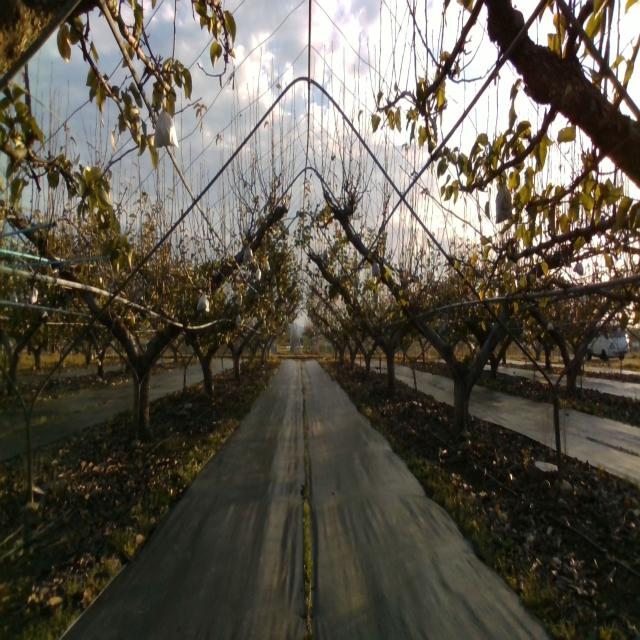pearbags: (153, 110, 176, 152), (495, 175, 512, 224), (196, 290, 210, 313), (242, 245, 254, 264), (370, 260, 381, 278)
